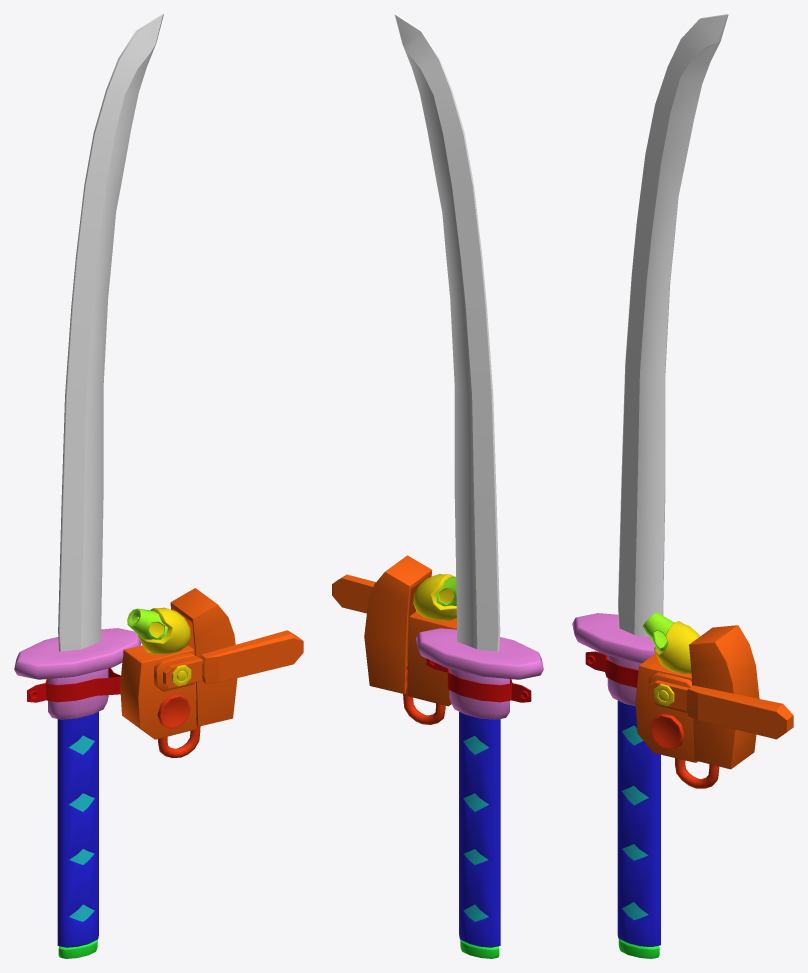
Rendered from MoralesHelena_FMA_E2_Espada.fbx.
3 views of the same model, side by side, from view 1: azimuth 30°, elevation 25°; view 2: azimuth 150°, elevation 25°; view 3: azimuth 330°, elevation 25° (orthographic). The views are drawn at different scales.
Parts seen in each view (by area): view 1: Palanca; view 2: Palanca; view 3: Palanca.
Boxes of the visible parts, x1,y1,x2,y2 form: Palanca: (14, 14, 303, 958); Palanca: (332, 14, 543, 958); Palanca: (572, 14, 793, 958).
Size of the model in its own units: 28.47 by 101 by 11.67.
